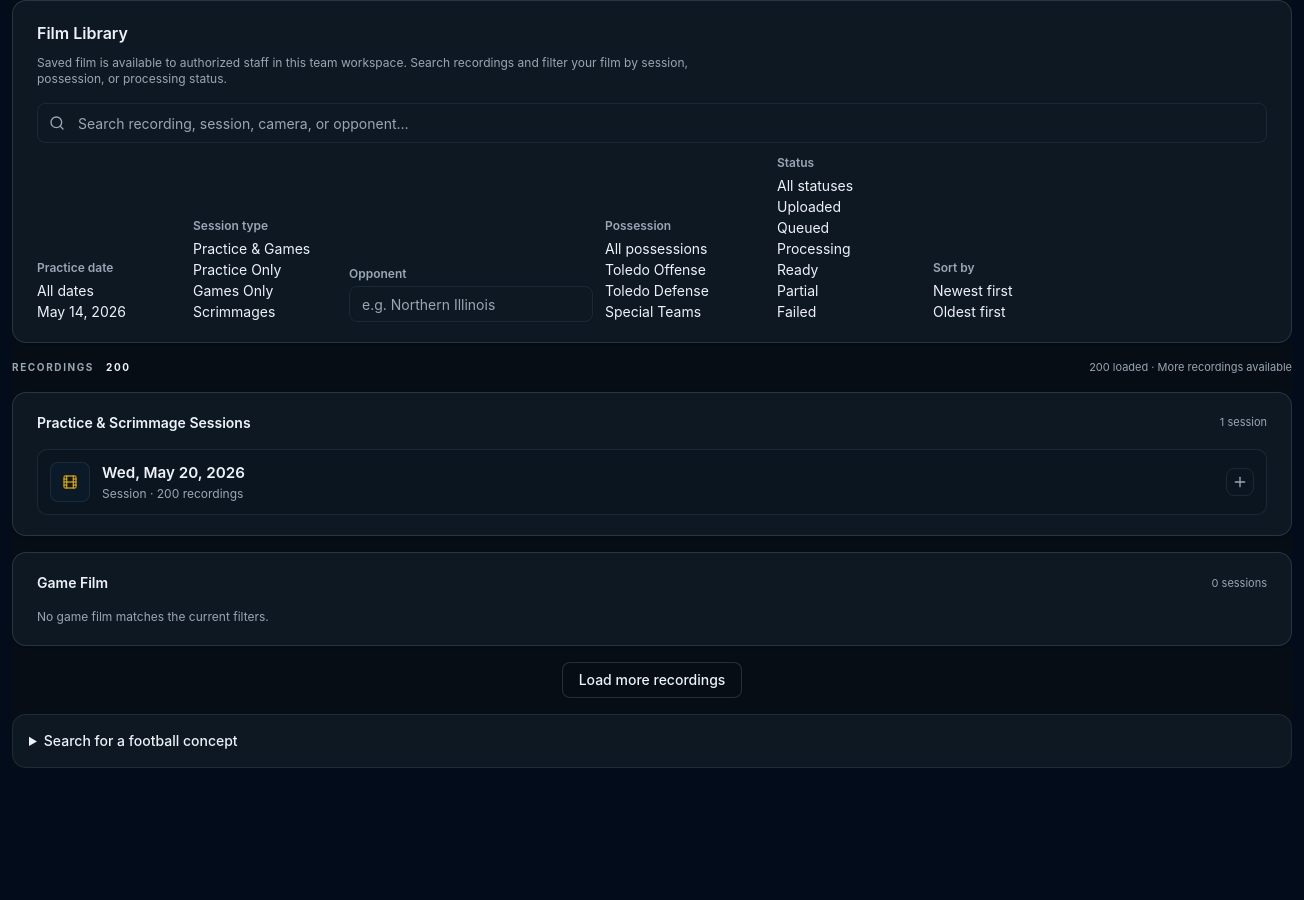
LibraryPage › loads the next recording page instead of hiding film after the first 200 uploads
# 200 rows take well over the default 1 s to render on CI runners.
Click the button "Load more recordings" at (652, 680), box [562,662,742,698]
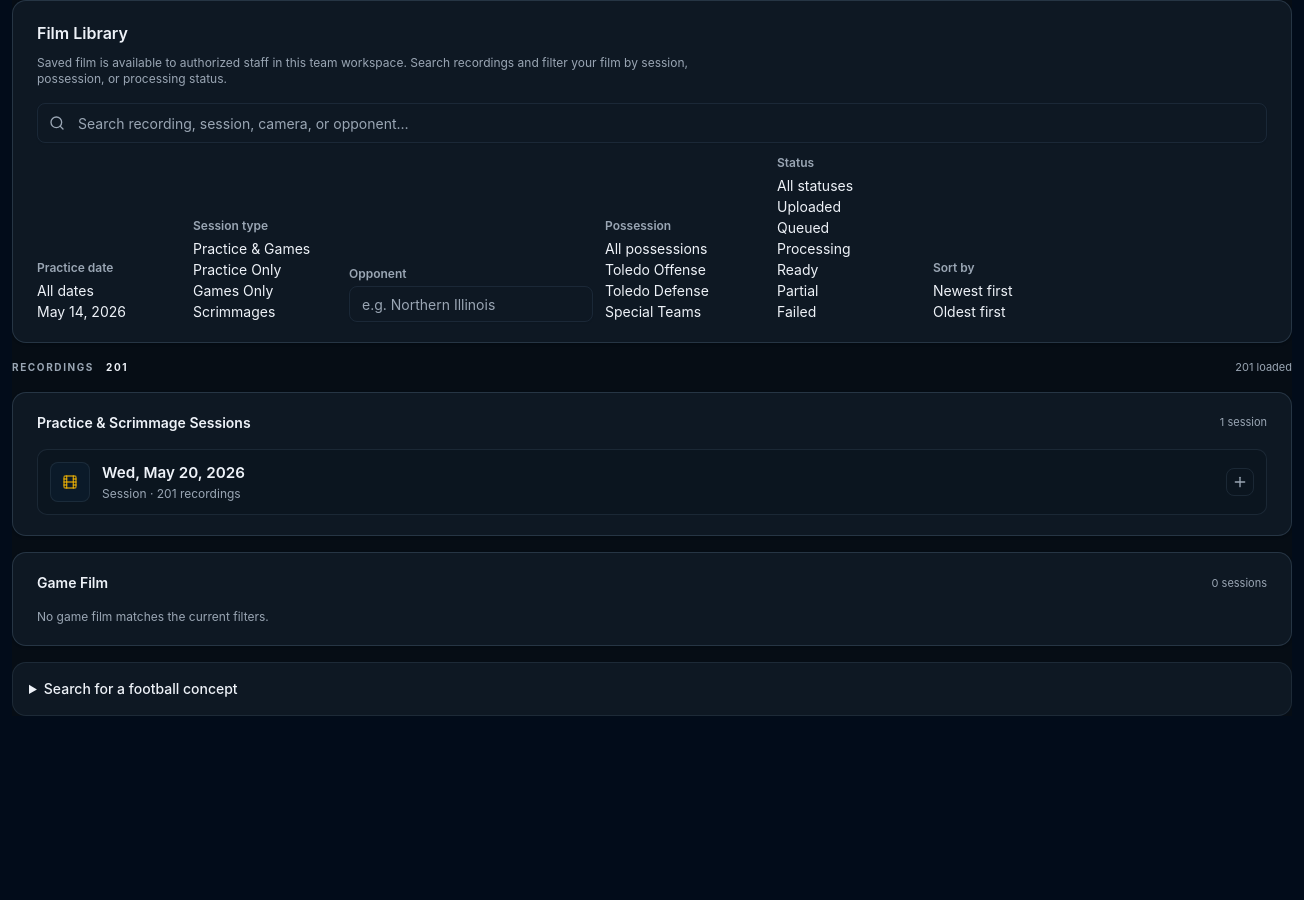
Expected: the text "201 loaded" is shown, [1235,359,1292,376]
Expected: the button "Load more recordings" is gone
Type "last-recording" into the field named "Search film" at (652, 123), box [37,103,1267,143]
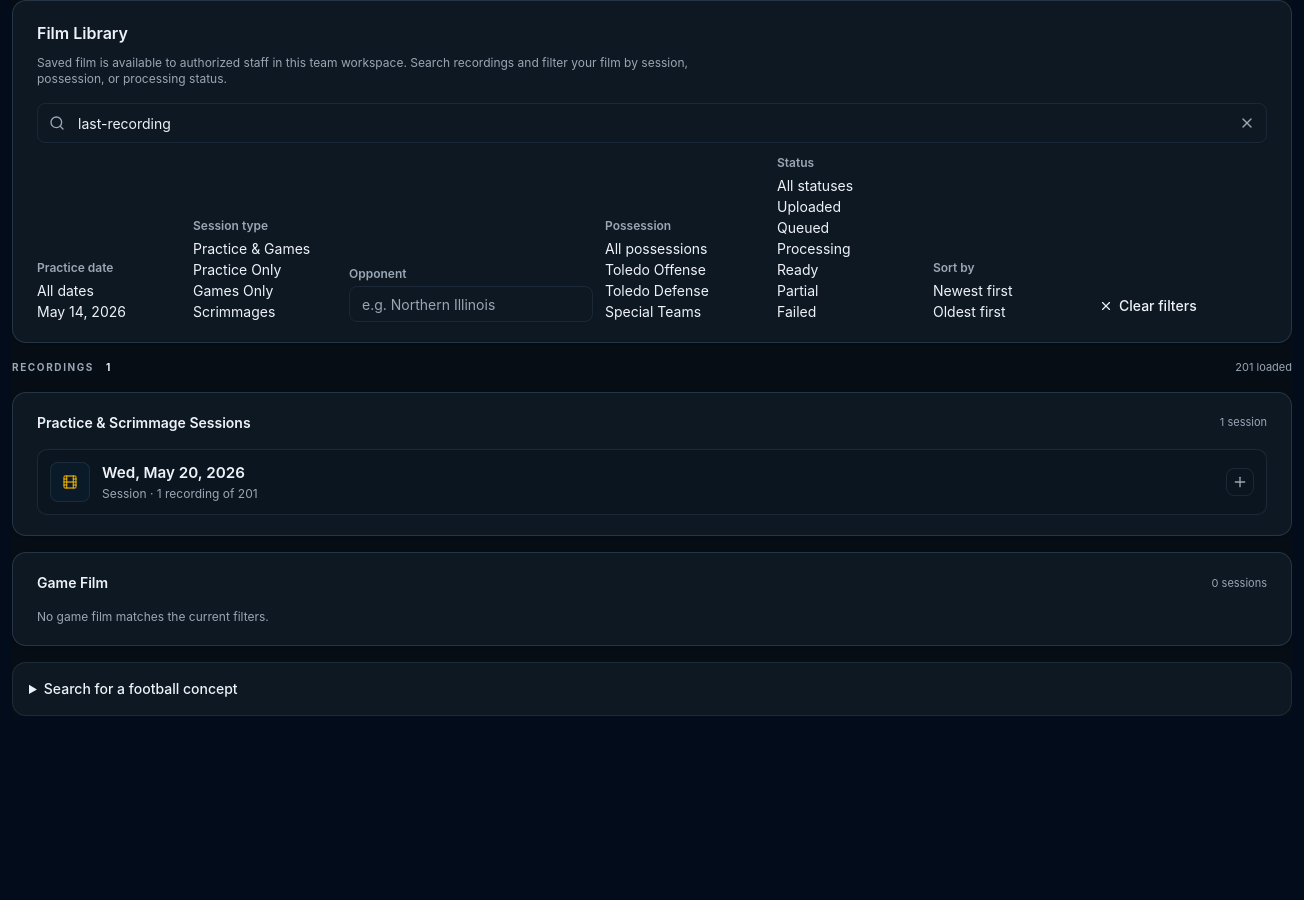
Click the button "Wed, May 20, 2026 Session · 1 recording of 201" at (70, 482), box [38,450,1266,514]
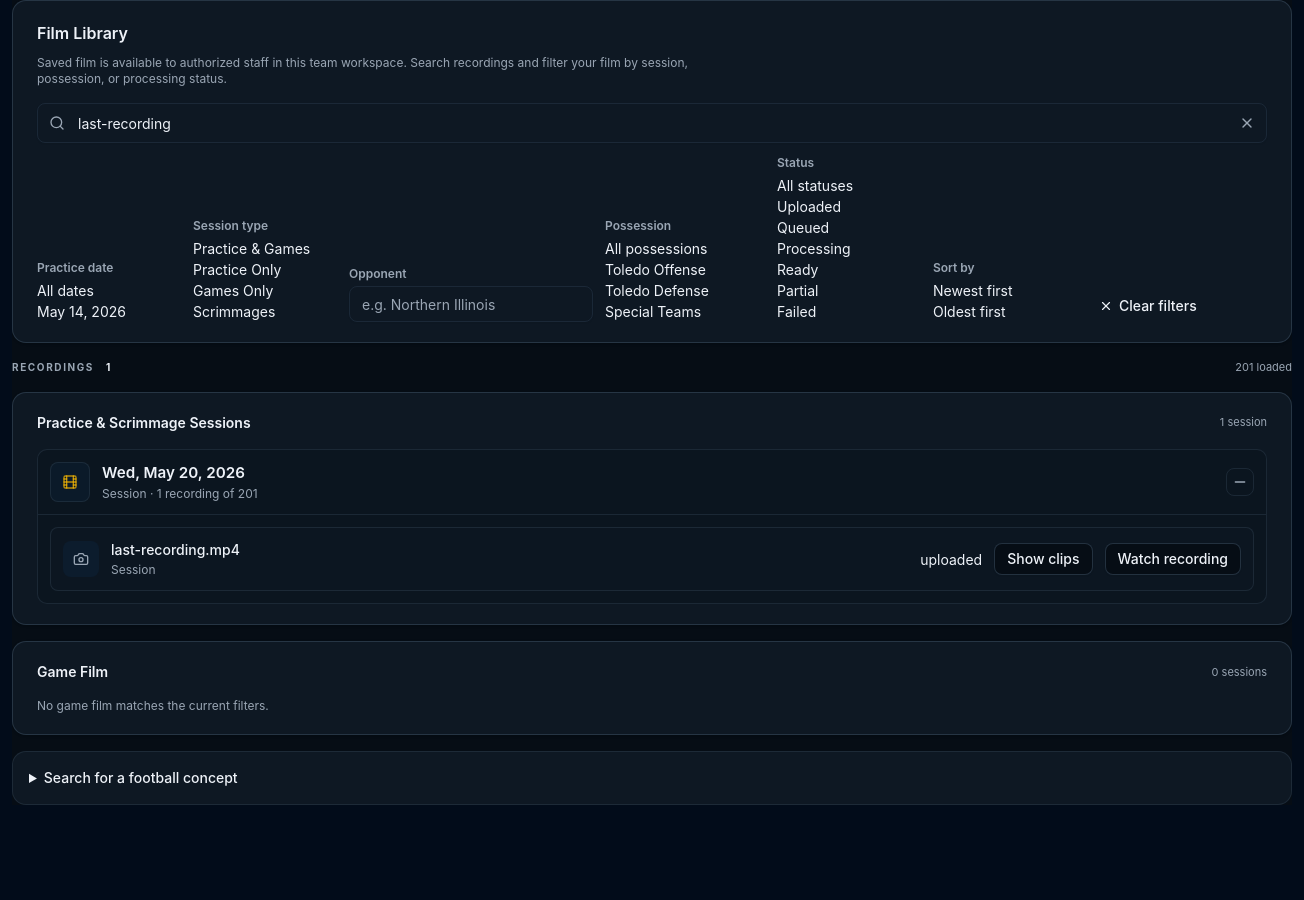
Expected: the link "last-recording.mp4" is shown, [111,541,240,558]
